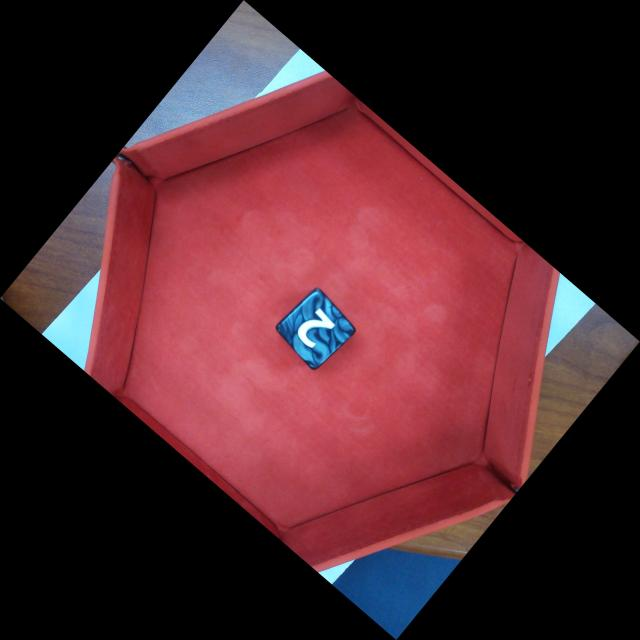dice: (273, 285, 358, 373)
